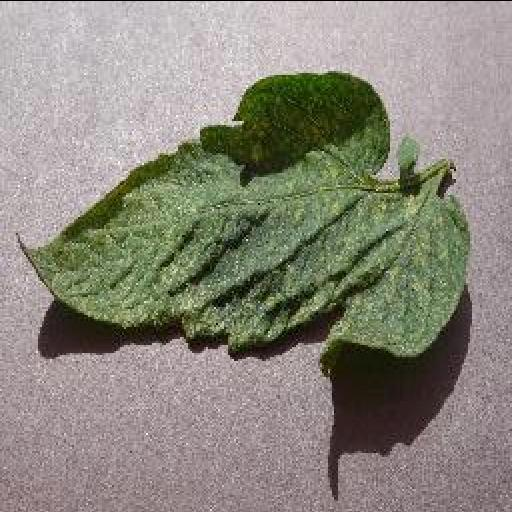disease_tomato: (10, 71, 470, 361)
